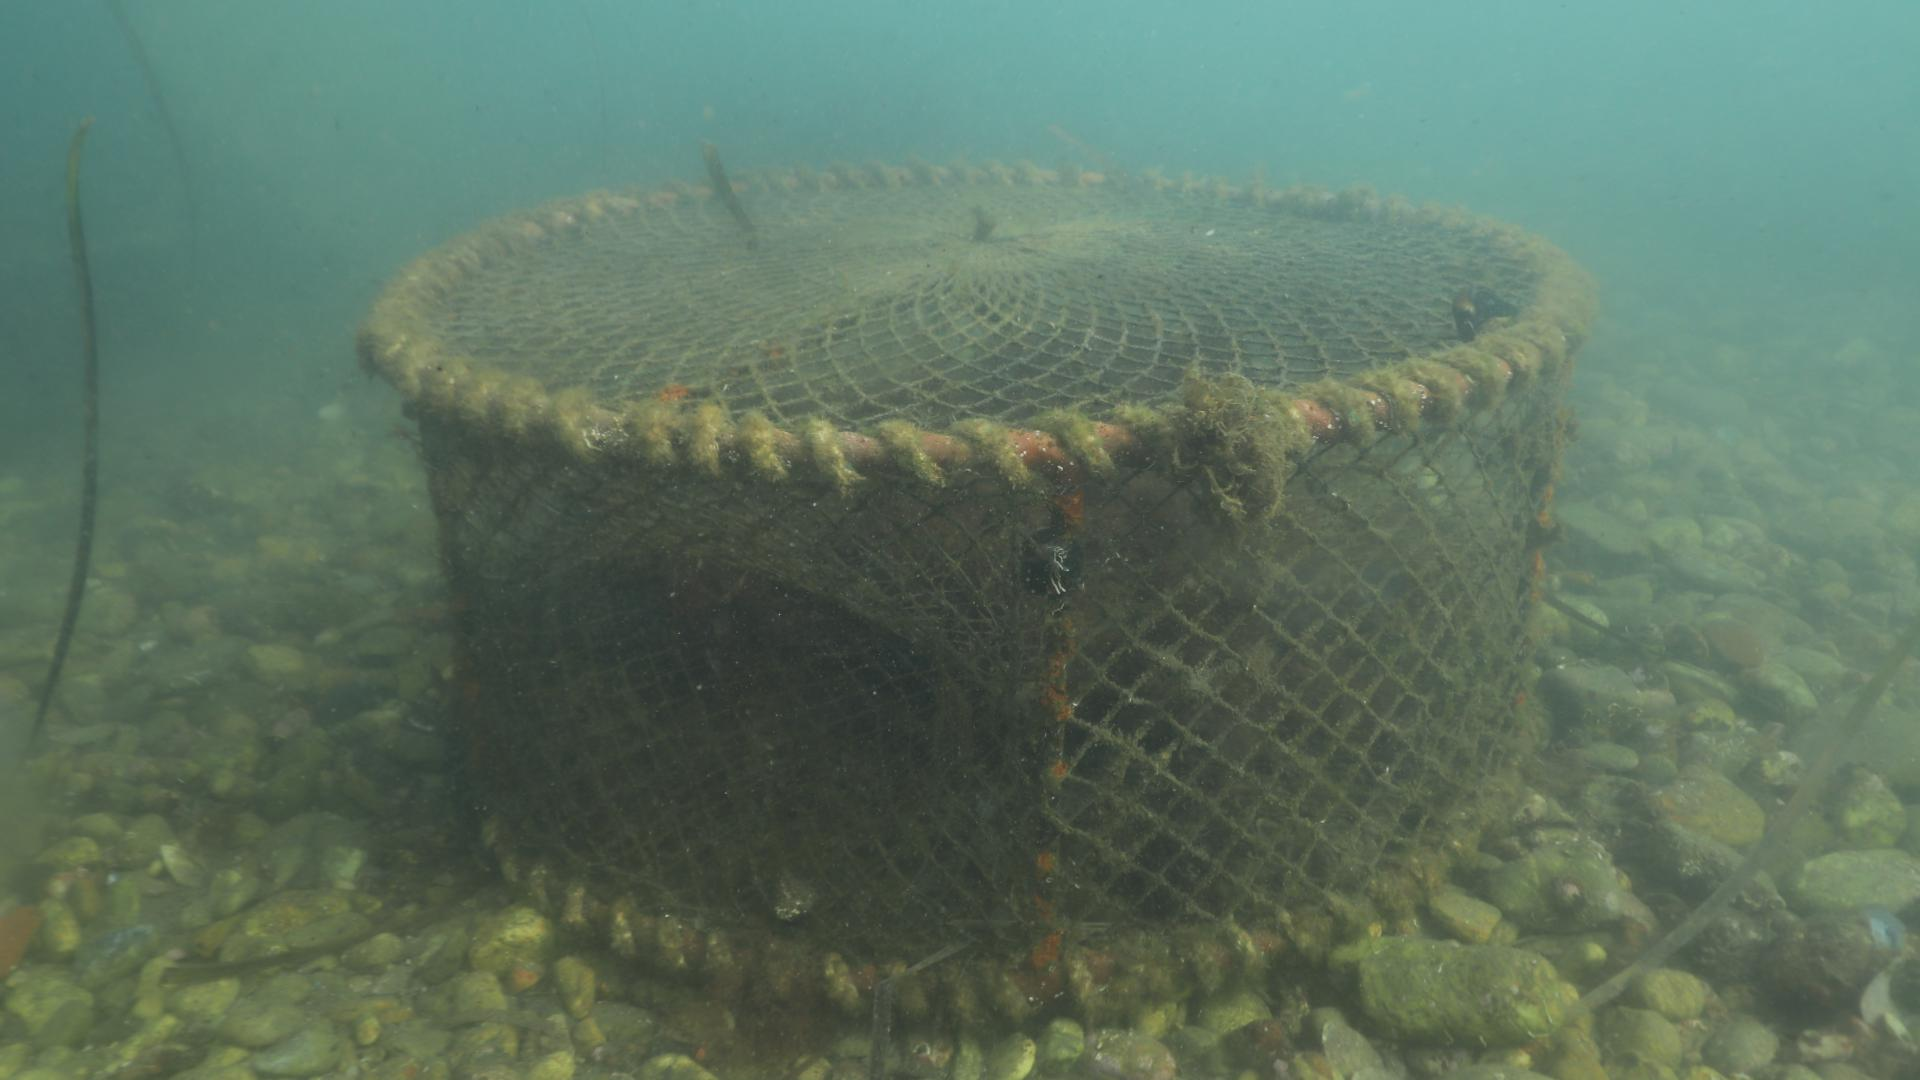circular fish trap: (360, 157, 1602, 1025)
